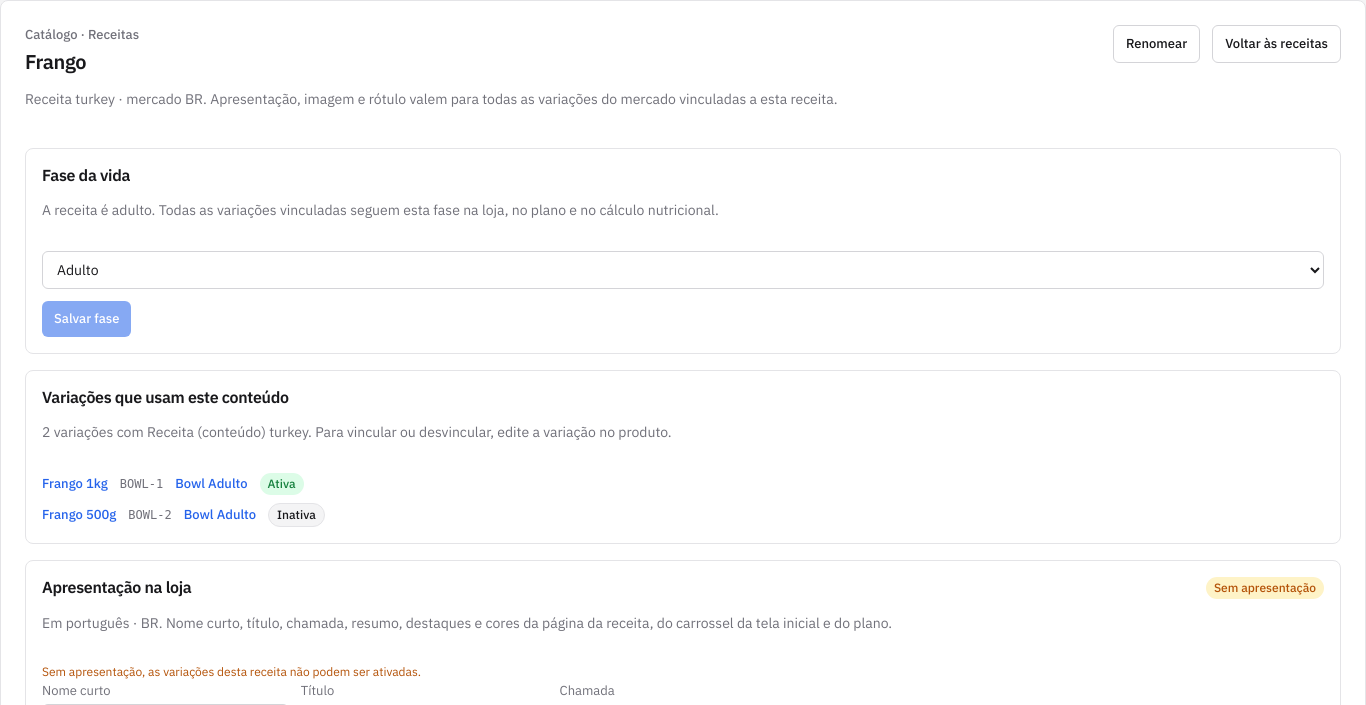
Scenario: RecipeContentPage › changes the life stage of the recipe
Check: the button "Salvar fase" is disabled, box [42,301,132,337]
Select "Sênior" in the dropdown named "Fase da vida" at (683, 270), box [42,251,1324,289]
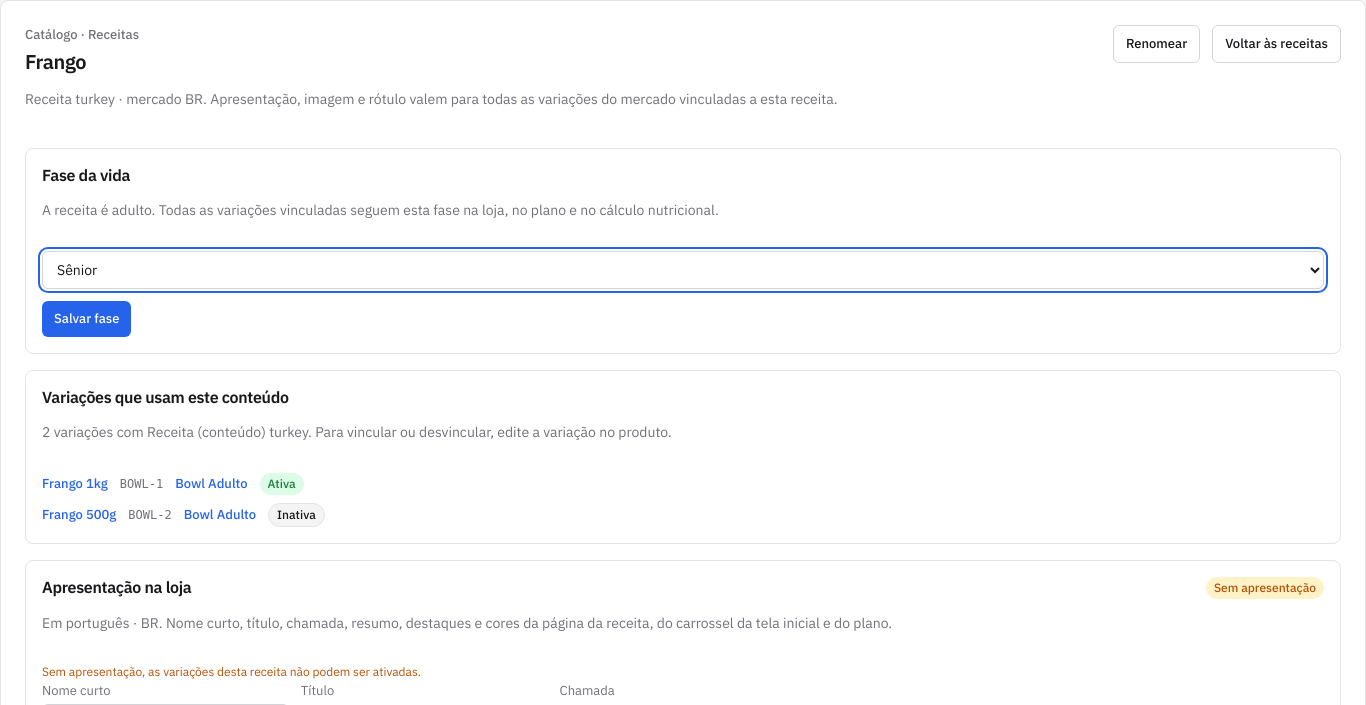
Click the button "Salvar fase" at (87, 319), box [42,301,132,337]
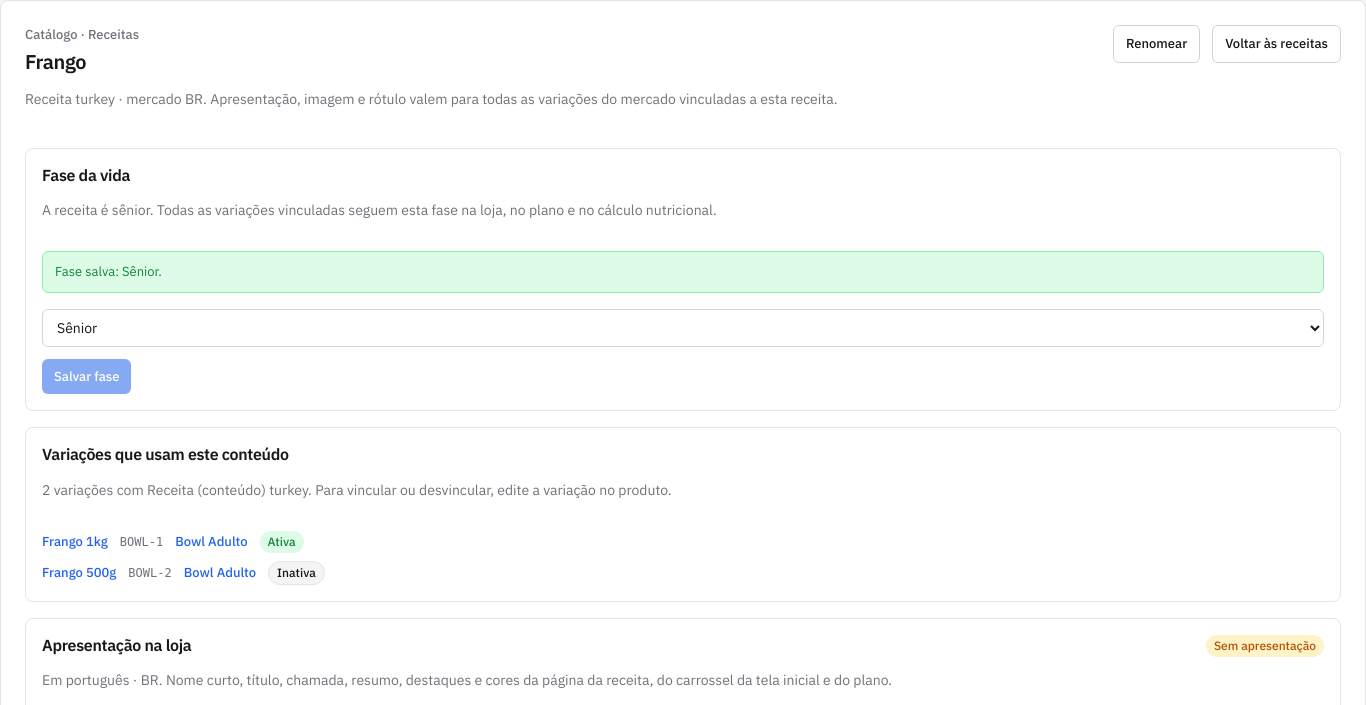
Check: the text "Fase salva: Sênior." is shown, box [42,251,1324,293]
Check: the text "A receita é sênior" is shown, box [42,201,717,219]
